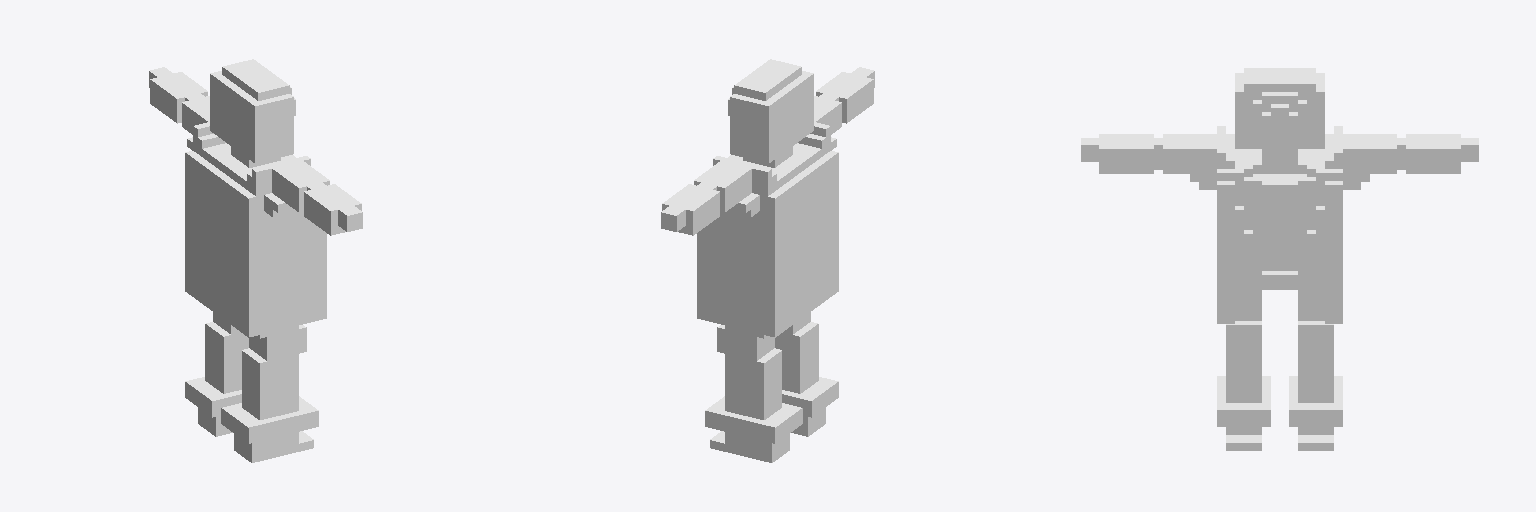
The model's file is cameraman.obj.
The picture shows the model from 3 angles: view 1: azimuth 30°, elevation 25°; view 2: azimuth 150°, elevation 25°; view 3: azimuth 270°, elevation 25°; orthographic projection.
Parts seen in each view (by area): view 1: object 1; view 2: object 1; view 3: object 1.
Boxes of the visible parts, <box> form: object 1: <box>149,59,362,462</box>; object 1: <box>661,59,874,462</box>; object 1: <box>1081,68,1478,450</box>.
Bounding box in the file's own units: 1 × 4.4 × 4.4.